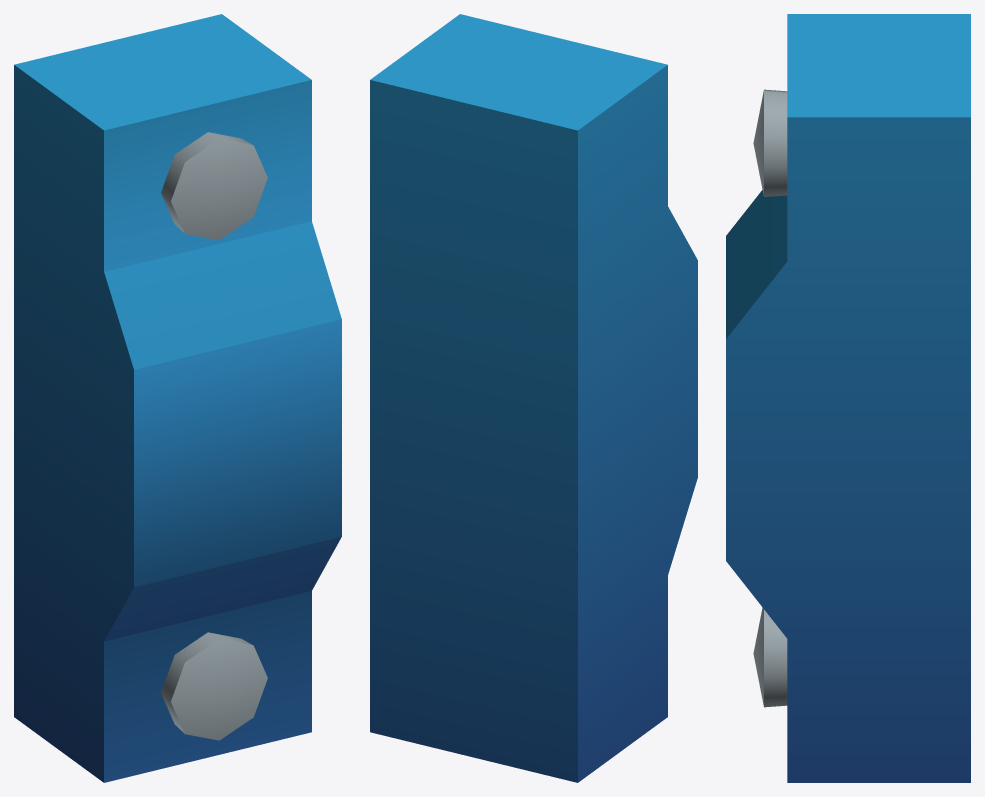
Rendered from bracing_small_blue.glb.
3 views of the same model, side by side, from view 1: azimuth 30°, elevation 25°; view 2: azimuth 150°, elevation 25°; view 3: azimuth 270°, elevation 25° (orthographic). The views are drawn at different scales.
Visible parts, largest first — view 1: bracing_small_blue; view 2: bracing_small_blue; view 3: bracing_small_blue.
Part boxes in pixels (box(x1,y1,x2,y2)): bracing_small_blue: box(14, 14, 341, 782); bracing_small_blue: box(370, 14, 697, 782); bracing_small_blue: box(726, 14, 970, 782).
Bounding box in the file's own units: 0.2 × 0.6 × 0.2.
Materials: 1 (1 with a texture image).
